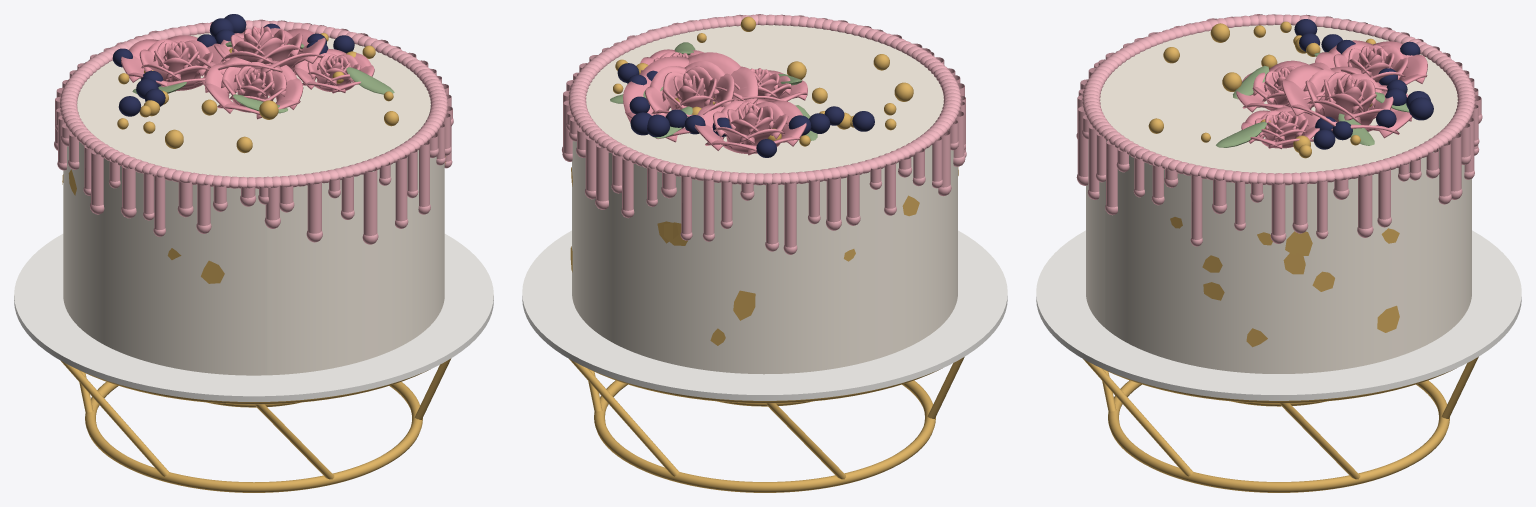
The model's file is cake.glb.
3 renders of one model, left to right at view 1: azimuth 30°, elevation 25°; view 2: azimuth 150°, elevation 25°; view 3: azimuth 270°, elevation 25°, orthographic.
Visible parts, largest first — view 1: Shell_body, Shell_wedge, Stand_board, Top_body, Drip_body, Stand_gold, Drip_wedge, Top_wedge, Deco_rose1, Deco_rose2, Deco_rose0, Deco_berries (+4 smaller); view 2: Shell_body, Drip_body, Stand_board, Top_body, Stand_gold, Deco_rose0, Top_wedge, Deco_rose1, Deco_berries, Deco_pearls, Drip_wedge, Deco_goldleaf (+2 smaller); view 3: Shell_body, Stand_board, Drip_body, Top_body, Stand_gold, Top_wedge, Deco_rose0, Deco_berries, Drip_wedge, Deco_rose1, Deco_goldleaf, Shell_wedge (+4 smaller).
Part boxes in pixels (x1,y1,x2,y2): Shell_body: (63, 141, 444, 375); Shell_wedge: (267, 157, 412, 375); Stand_board: (14, 234, 493, 401); Top_body: (77, 33, 430, 195); Drip_body: (54, 19, 453, 236); Stand_gold: (61, 358, 451, 492); Drip_wedge: (263, 142, 418, 244); Top_wedge: (255, 113, 397, 194); Deco_rose1: (121, 35, 230, 91); Deco_rose2: (205, 57, 303, 119); Deco_rose0: (195, 26, 325, 74); Deco_berries: (112, 14, 354, 116); Shell_body: (572, 130, 957, 374); Drip_body: (562, 14, 966, 254); Stand_board: (522, 230, 1007, 400); Top_body: (586, 25, 943, 192); Stand_gold: (569, 357, 964, 492); Deco_rose0: (623, 52, 758, 142); Top_wedge: (770, 25, 912, 88); Deco_rose1: (694, 96, 806, 155); Deco_berries: (617, 63, 874, 157); Deco_pearls: (613, 16, 913, 146); Drip_wedge: (774, 14, 930, 59); Deco_goldleaf: (570, 167, 958, 345); Shell_body: (1105, 133, 1471, 373); Stand_board: (1036, 230, 1521, 400); Drip_body: (1098, 14, 1482, 246); Top_body: (1118, 24, 1457, 192); Stand_gold: (1083, 356, 1478, 492); Top_wedge: (1100, 67, 1267, 133); Deco_rose0: (1281, 65, 1412, 138); Deco_berries: (1294, 19, 1433, 149); Drip_wedge: (1076, 59, 1118, 199); Deco_rose1: (1315, 40, 1427, 91); Deco_goldleaf: (1170, 217, 1399, 347); Shell_wedge: (1086, 140, 1105, 327).
Size of the model in its own units: 2.64 by 2.19 by 2.64.
